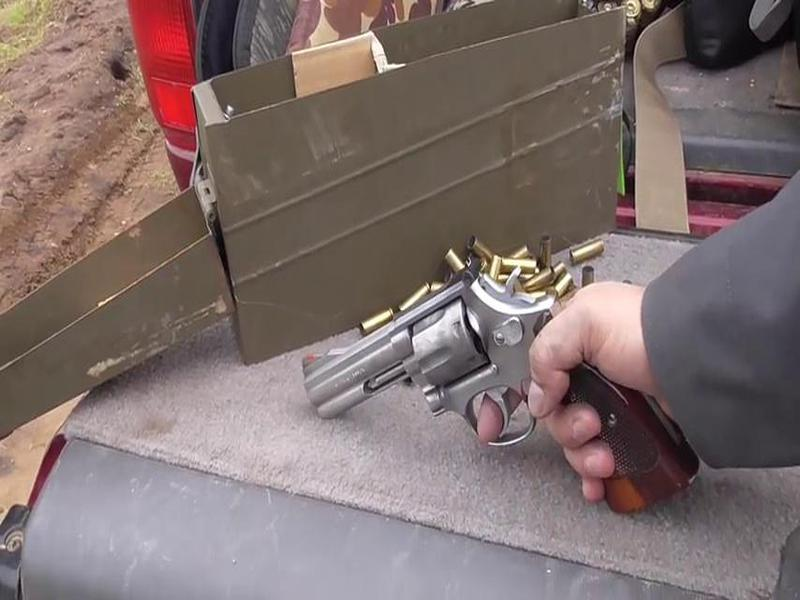Revolver: (296, 243, 666, 515)
